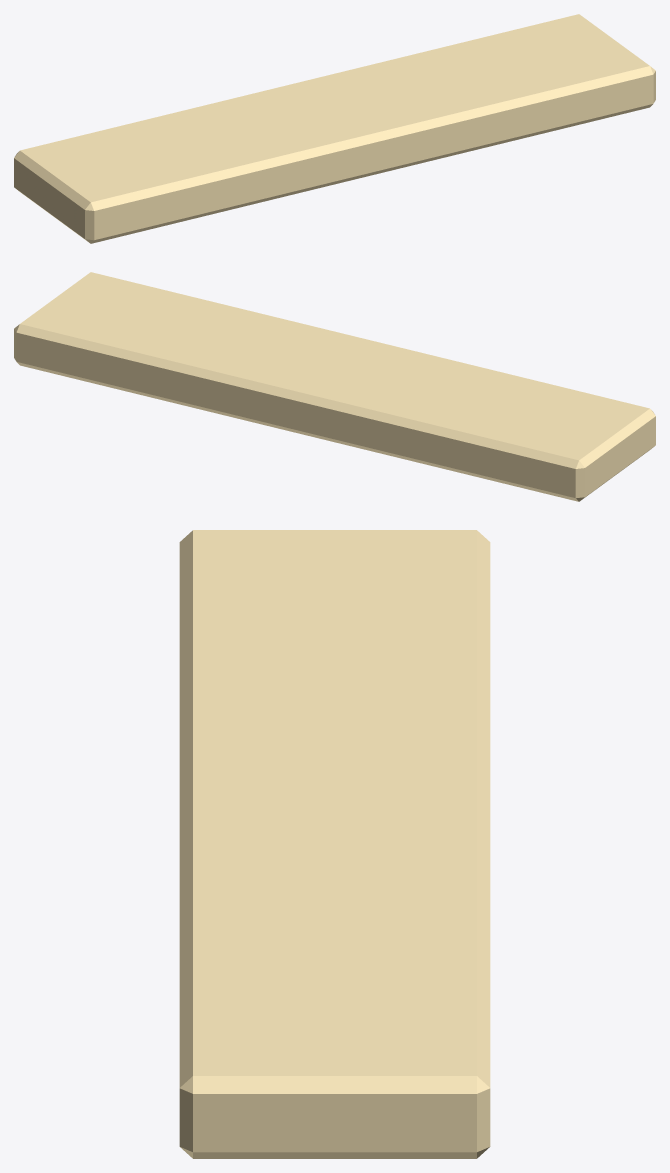
File: trab edu colchao.fbx
The picture shows the model from 3 angles, top to bottom: view 1: azimuth 30°, elevation 25°; view 2: azimuth 150°, elevation 25°; view 3: azimuth 270°, elevation 25°; orthographic projection. The views are drawn at different scales.
Parts seen in each view (by area): view 1: Cubo.001; view 2: Cubo.001; view 3: Cubo.001.
Part boxes in pixels (left/top/right/bottom): Cubo.001: left=14, top=14, right=655, bottom=243; Cubo.001: left=14, top=272, right=655, bottom=501; Cubo.001: left=179, top=530, right=490, bottom=1158.
Bounding box in the file's own units: 848 × 58.96 × 200.
